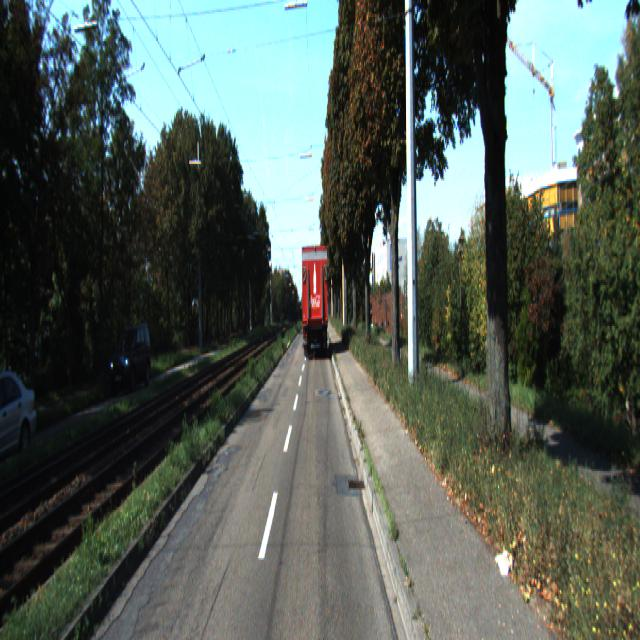Car: (0, 362, 44, 488), (300, 245, 330, 363), (109, 322, 153, 398)
